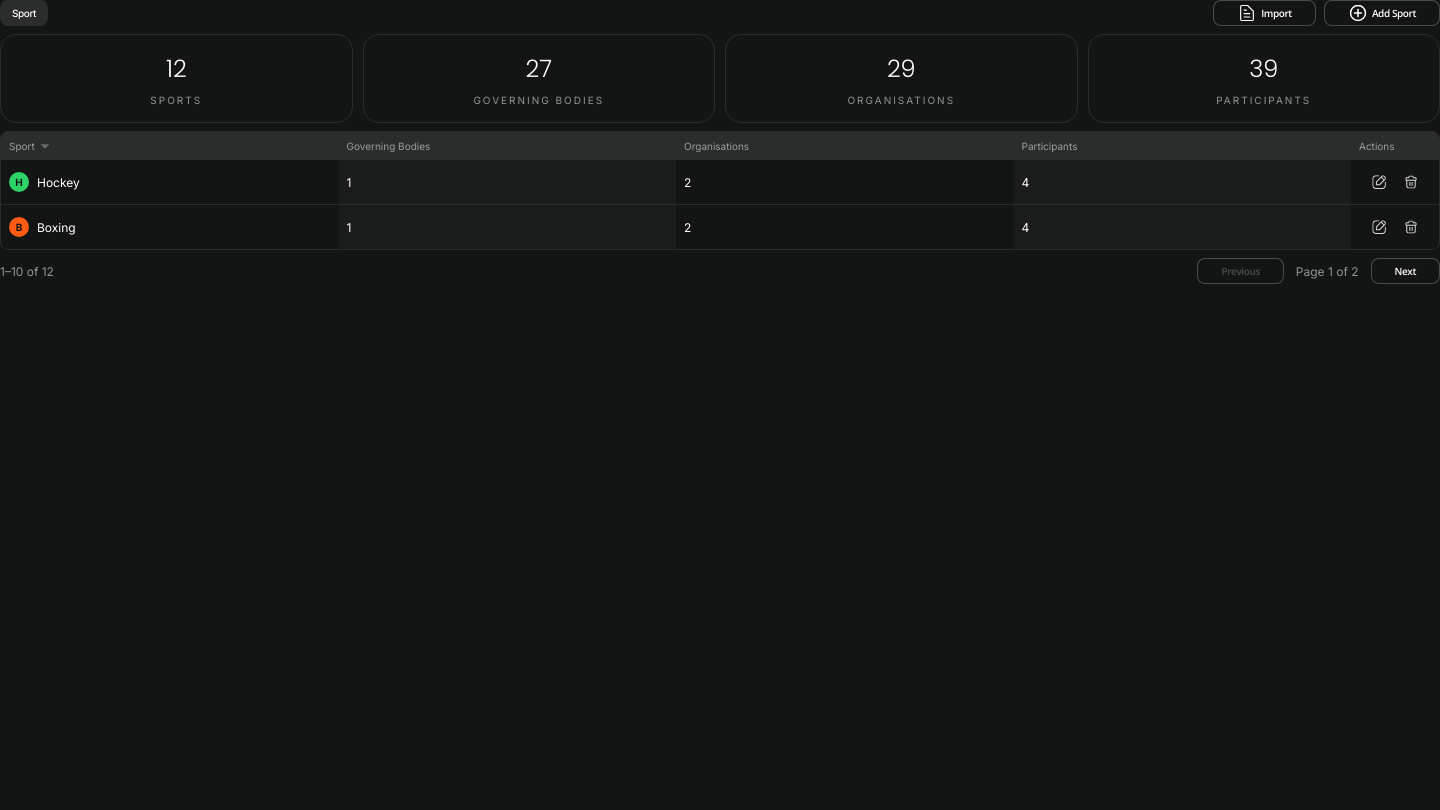
Test: SportListPage › adds a sport, then reloads the list and the totals
The width and height of the screenshot is (1440, 810).
Click the button "Add Sport" at x=1382, y=13, box [1324,0,1439,26]
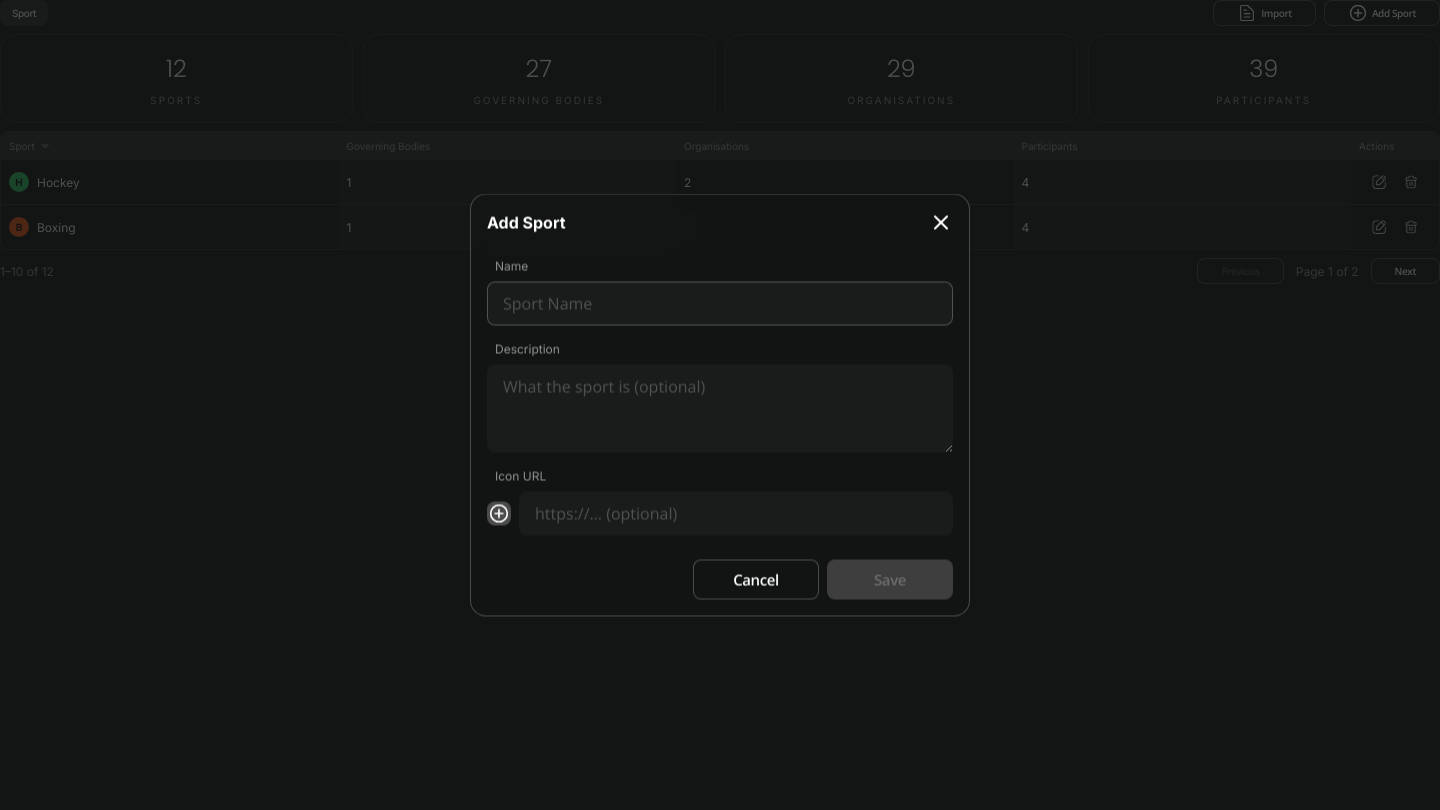
Type "Padel" into the field with id "sport-name" at x=720, y=304, box [503,282,937,326]
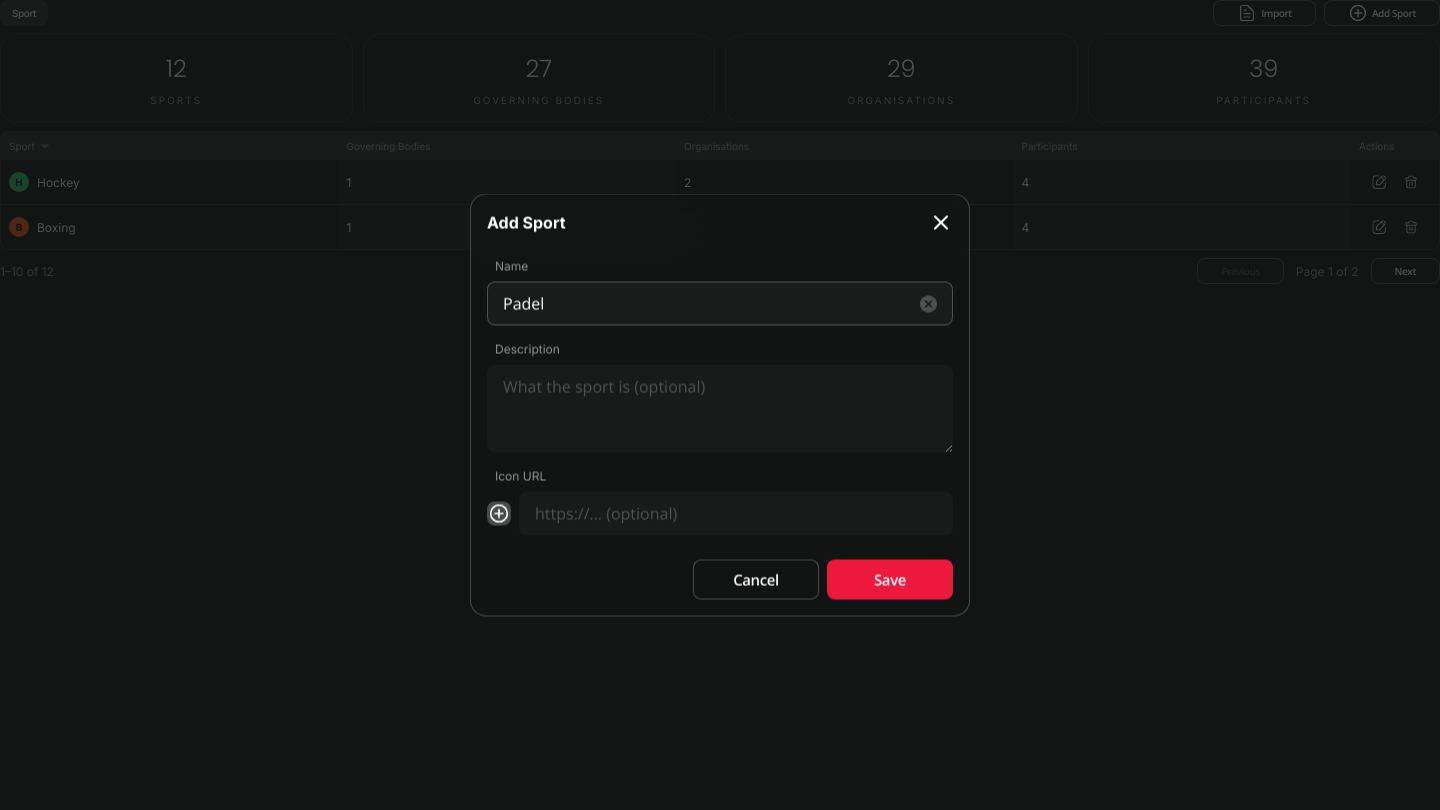
Click the submit button at x=890, y=580, box [827,560,953,600]
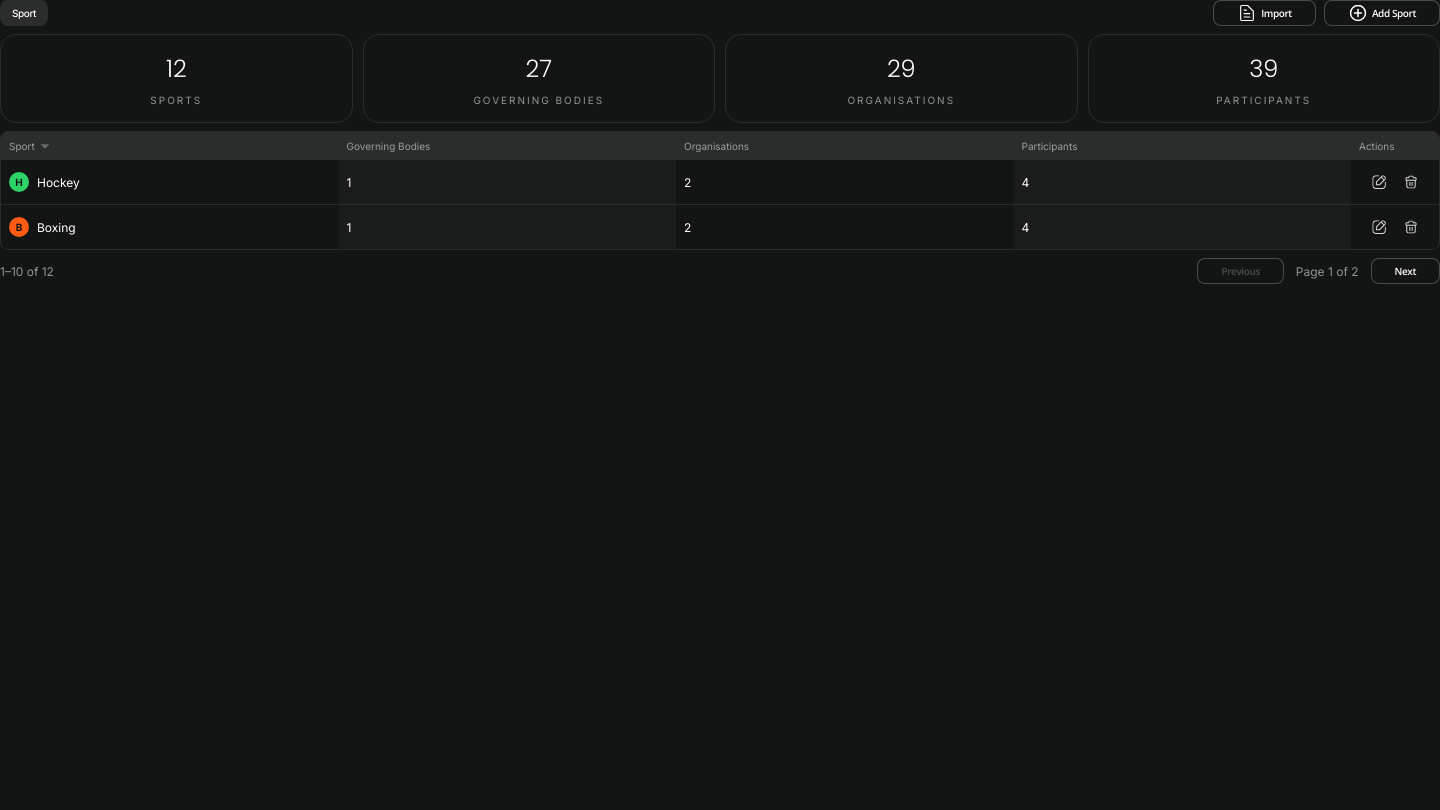
Result: the dialog with class "modal" is gone
